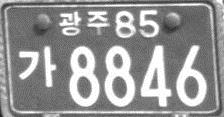4: (139, 43, 172, 106)
5: (137, 8, 159, 38)
6: (174, 43, 208, 106)
8: (68, 45, 100, 108), (103, 45, 136, 106), (114, 9, 136, 40)
가: (17, 46, 58, 88)
광주_O: (58, 10, 110, 36)
